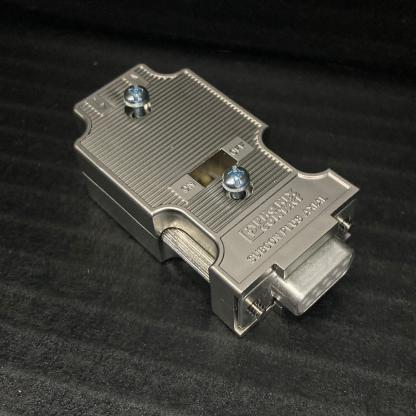SP0000010: (44, 47, 384, 356)
